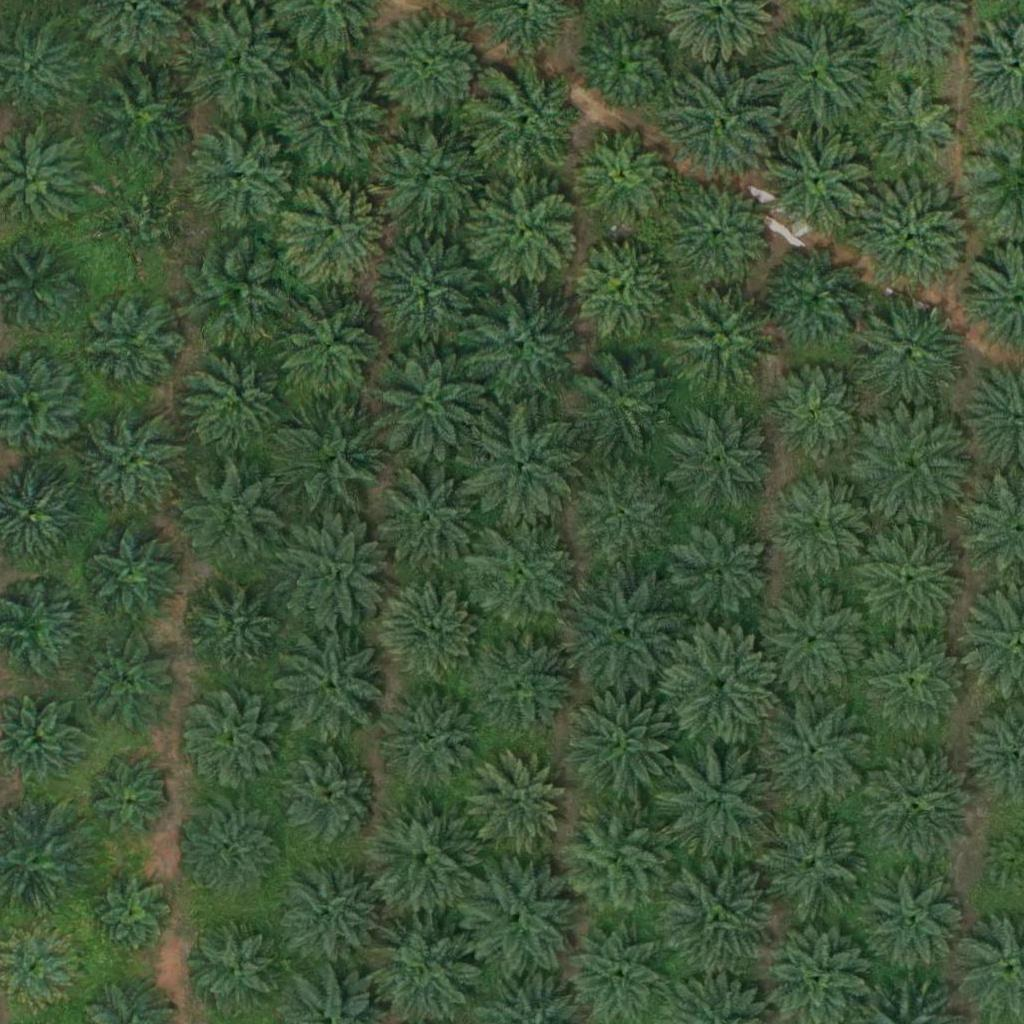Kelapa_Sawit: (373, 10, 486, 124), (471, 63, 584, 177), (468, 174, 581, 288), (569, 346, 682, 460), (558, 802, 671, 916), (663, 860, 776, 974), (83, 59, 196, 172), (181, 241, 294, 354), (369, 123, 482, 236), (761, 15, 874, 128), (762, 120, 875, 233), (856, 180, 969, 293), (853, 296, 966, 409), (858, 410, 971, 523), (665, 629, 778, 742), (662, 741, 775, 854), (566, 459, 679, 572), (571, 578, 684, 691), (564, 690, 677, 803), (466, 290, 579, 403), (468, 412, 581, 525), (273, 514, 386, 627), (273, 630, 386, 743), (271, 742, 384, 855), (272, 855, 385, 968), (663, 281, 775, 395), (859, 524, 971, 638), (662, 405, 774, 519), (182, 3, 294, 116), (183, 121, 295, 234), (278, 62, 390, 175), (279, 177, 391, 290), (376, 230, 488, 343), (663, 69, 775, 182), (661, 179, 773, 292), (861, 750, 973, 863), (760, 587, 872, 700), (764, 697, 876, 810), (469, 518, 581, 631), (467, 631, 579, 744), (374, 349, 486, 462), (371, 460, 483, 573), (274, 293, 386, 406), (277, 408, 389, 521), (79, 408, 191, 521), (364, 801, 476, 914), (466, 861, 578, 974), (758, 806, 870, 919), (580, 12, 680, 113), (764, 247, 864, 348), (864, 80, 964, 181), (470, 750, 570, 851), (378, 582, 478, 683), (383, 688, 483, 789), (181, 352, 281, 453), (178, 465, 278, 566), (180, 578, 280, 679), (88, 291, 188, 392), (81, 525, 181, 626), (866, 871, 966, 972), (578, 127, 678, 227), (574, 239, 674, 339), (864, 634, 964, 734), (765, 366, 865, 466), (770, 480, 870, 580), (673, 524, 773, 624), (181, 694, 281, 794), (181, 798, 281, 898), (79, 630, 179, 730), (91, 867, 179, 955), (104, 183, 191, 272), (91, 762, 166, 838)
